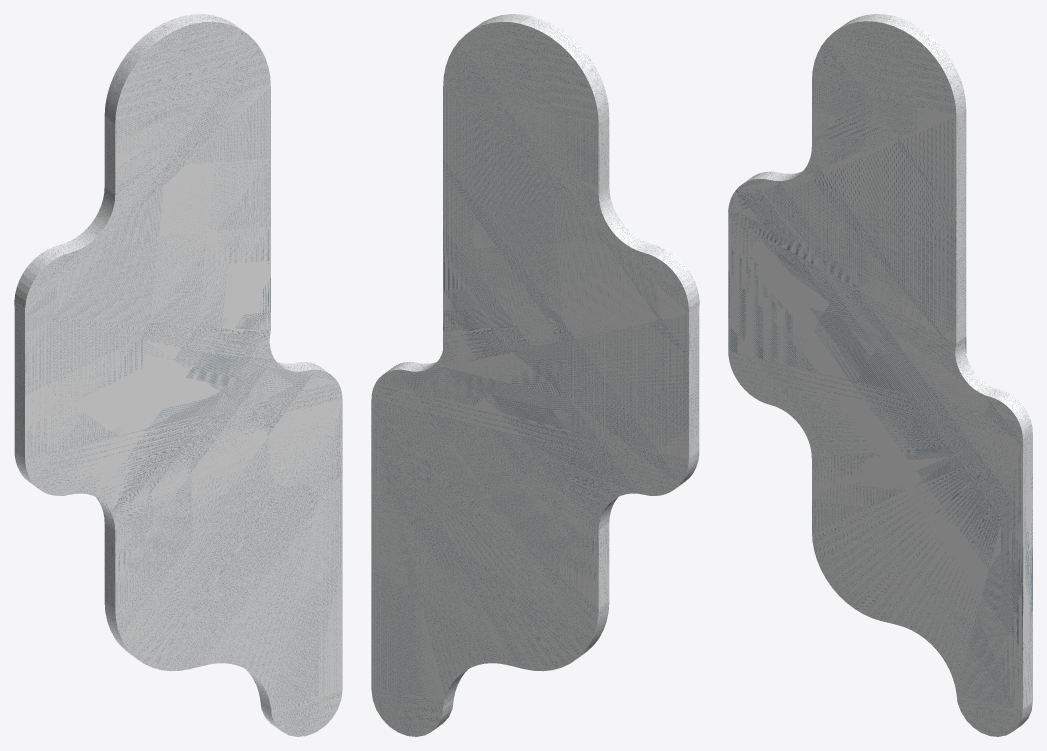
File: senti-mesh-sad-3.dae
3 renders of one model, left to right at view 1: azimuth 30°, elevation 25°; view 2: azimuth 150°, elevation 25°; view 3: azimuth 330°, elevation 25°, orthographic. The views are drawn at different scales.
Parts seen in each view (by area): view 1: group_0; view 2: group_0; view 3: group_0.
Part boxes in pixels (x1,y1,x2,y2): group_0: (14, 14, 342, 736); group_0: (371, 14, 699, 736); group_0: (728, 14, 1032, 736).
Bounding box in the file's own units: 10.13 × 0.5888 × 22.57.
